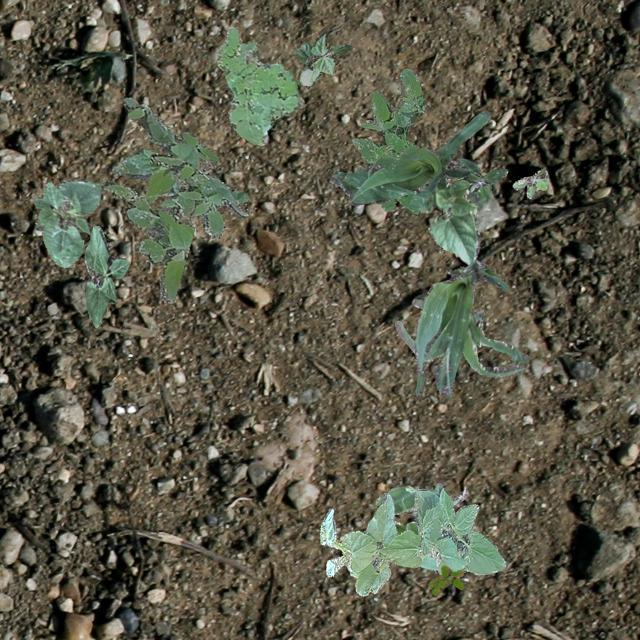crop: (320, 486, 504, 594), (328, 110, 490, 208), (414, 258, 506, 396), (393, 298, 528, 377), (374, 482, 468, 572), (33, 178, 100, 266), (416, 174, 479, 264), (84, 225, 128, 326), (292, 32, 350, 84)
weed: (112, 96, 248, 240), (100, 152, 208, 304), (350, 68, 424, 214), (215, 26, 302, 144), (451, 157, 506, 200), (512, 166, 546, 198), (428, 564, 462, 594)
